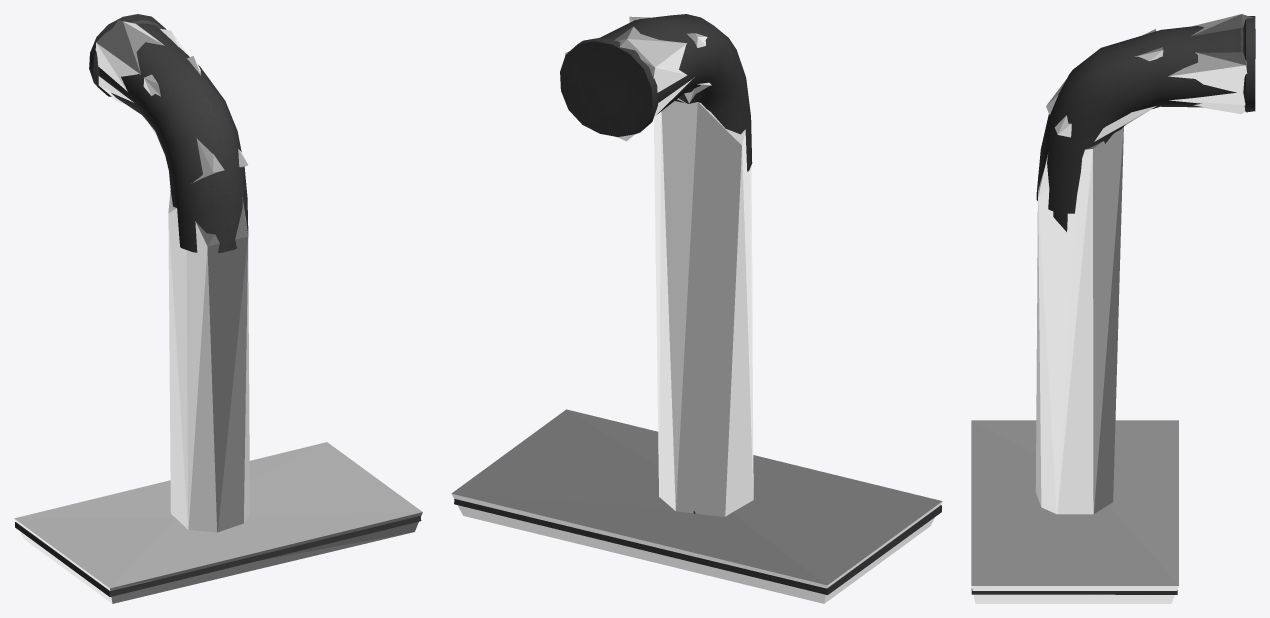
Rendered from SM_Monitor_Handles_01.fbx.
3 renders of one model, left to right at view 1: azimuth 30°, elevation 25°; view 2: azimuth 150°, elevation 25°; view 3: azimuth 270°, elevation 25°, orthographic. The views are drawn at different scales.
Visible parts, largest first — view 1: SM_Monitor_Handles_01_ConvexHulls, SM_Monitor_Handles_01_LOD0; view 2: SM_Monitor_Handles_01_ConvexHulls, SM_Monitor_Handles_01_LOD0; view 3: SM_Monitor_Handles_01_ConvexHulls, SM_Monitor_Handles_01_LOD0.
Part boxes in pixels (x1,y1,x2,y2): SM_Monitor_Handles_01_ConvexHulls: [14, 20, 422, 603]; SM_Monitor_Handles_01_LOD0: [15, 14, 421, 596]; SM_Monitor_Handles_01_ConvexHulls: [451, 16, 942, 603]; SM_Monitor_Handles_01_LOD0: [454, 14, 941, 595]; SM_Monitor_Handles_01_ConvexHulls: [971, 14, 1253, 603]; SM_Monitor_Handles_01_LOD0: [971, 16, 1255, 594].
Bounding box in the file's own units: 52.68 × 38.2 × 74.29.
